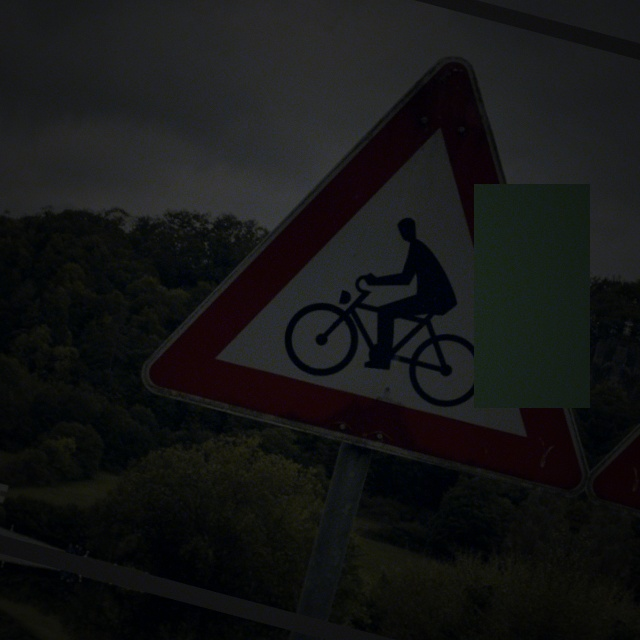Cycle_Crossing: (153, 1, 639, 504)
